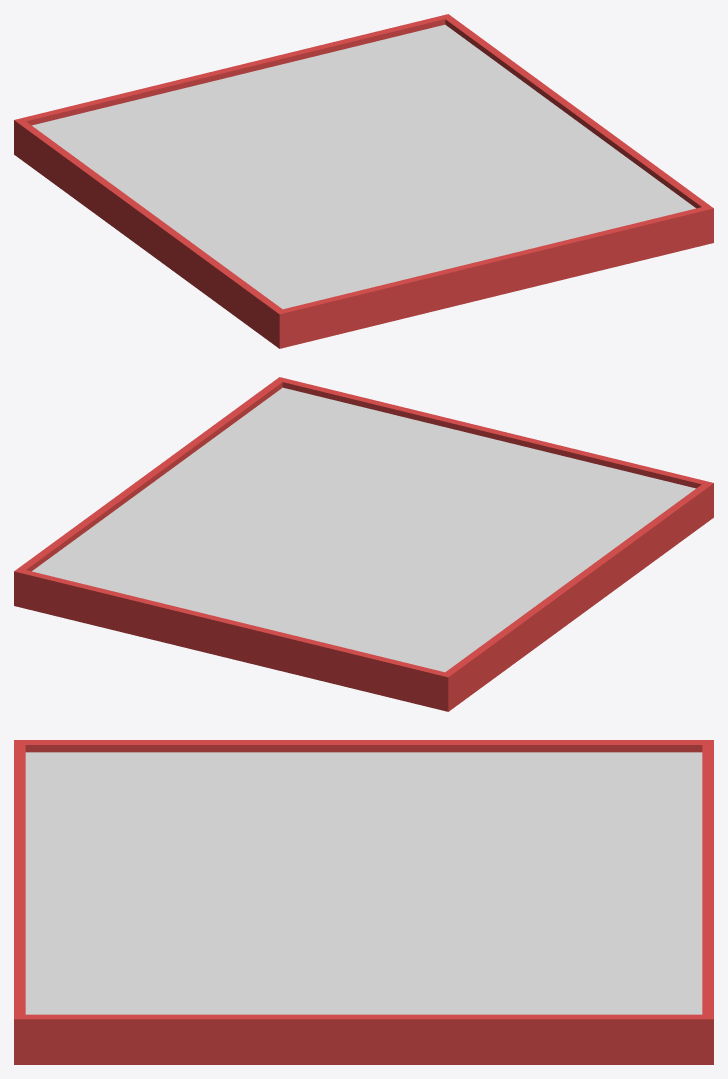
The model's file is ChessBoard.fbx.
The picture shows the model from 3 angles, top to bottom: view 1: azimuth 30°, elevation 25°; view 2: azimuth 150°, elevation 25°; view 3: azimuth 270°, elevation 25°; orthographic projection. The views are drawn at different scales.
Parts seen in each view (by area): view 1: ChessBoard; view 2: ChessBoard; view 3: ChessBoard.
Part boxes in pixels (left/top/right/bottom): ChessBoard: left=14, top=14, right=713, bottom=348; ChessBoard: left=14, top=377, right=713, bottom=711; ChessBoard: left=14, top=740, right=713, bottom=1064.
Size of the model in its own units: 21.04 by 1.6 by 22.28.
